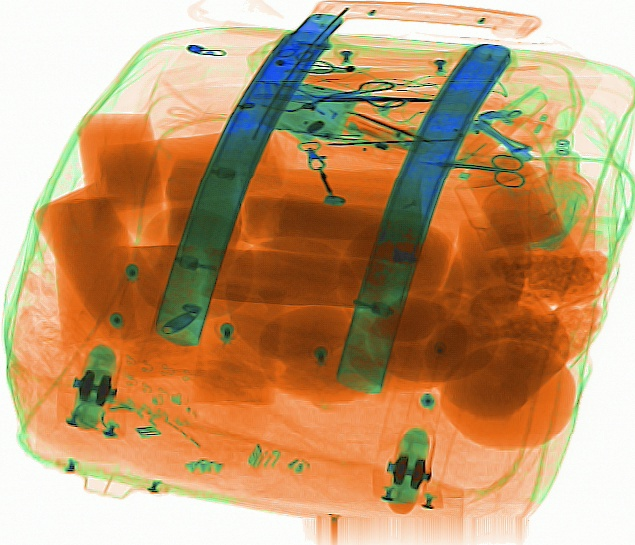scissors: (422, 151, 525, 189)
